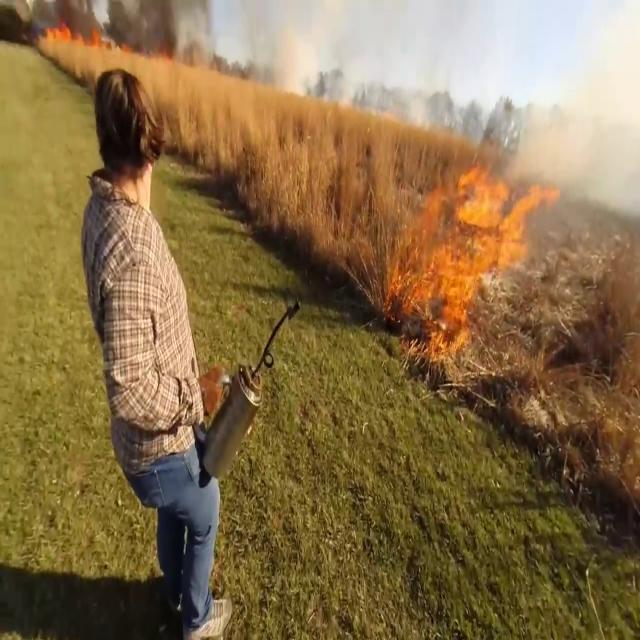Fire: (391, 151, 559, 360)
Smoke: (513, 0, 640, 293)
